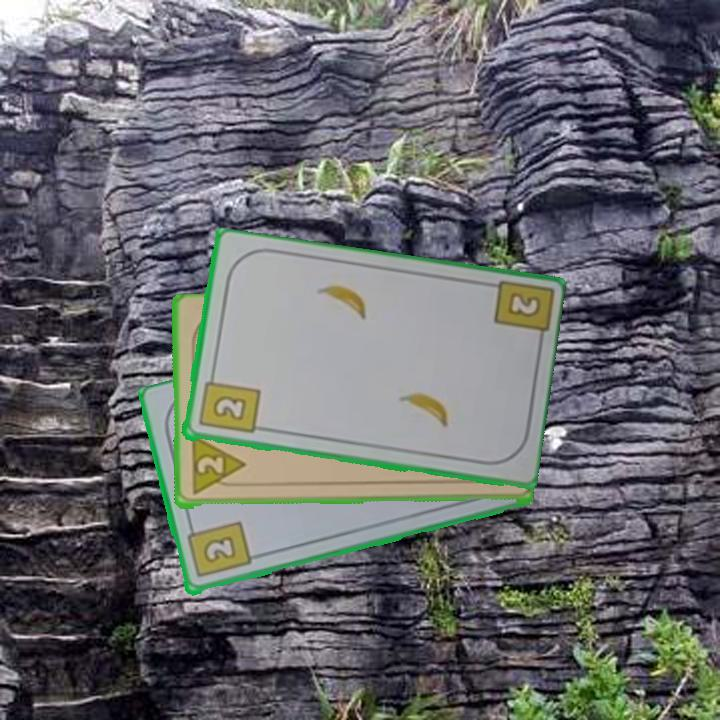2b: (195, 369, 262, 437), (183, 518, 253, 581), (503, 289, 544, 321)
2p: (188, 435, 247, 499)
